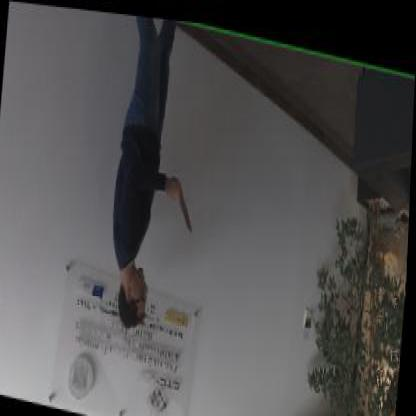knife: (168, 168, 198, 229)
